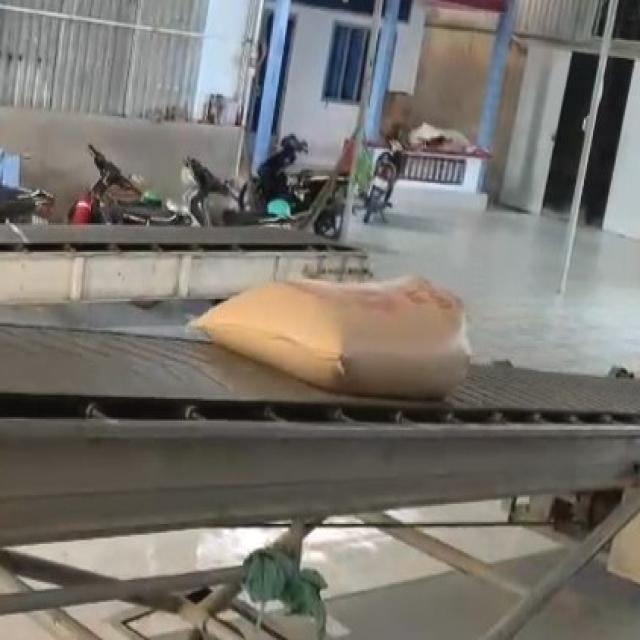gunny_bag: (191, 277, 469, 399)
